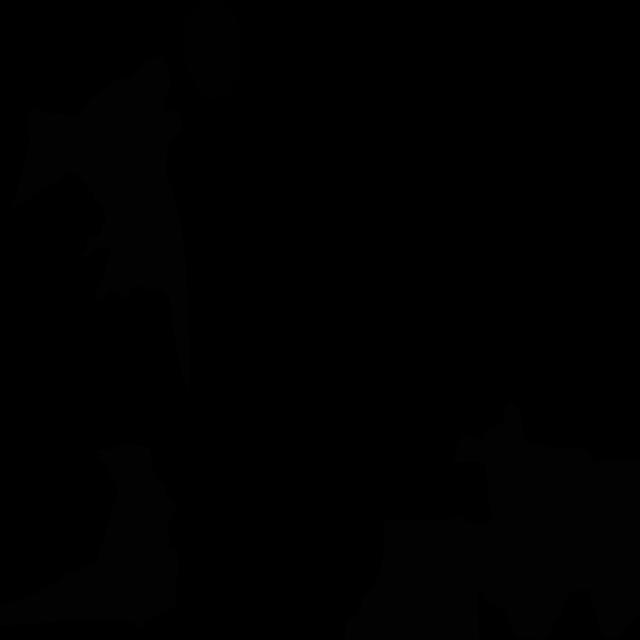cardboard: (11, 54, 190, 392), (453, 400, 640, 640), (0, 444, 179, 628), (344, 517, 479, 640)
rigid_plastic: (183, 0, 243, 101)
